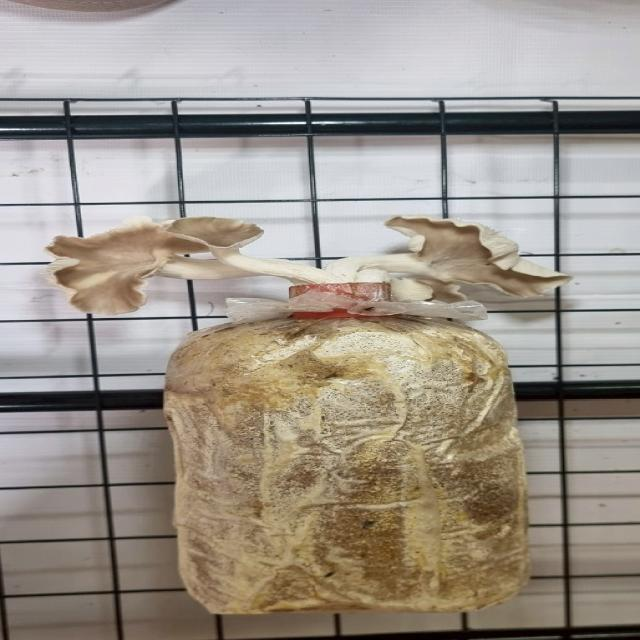normal: (341, 200, 573, 334), (35, 205, 276, 323)
